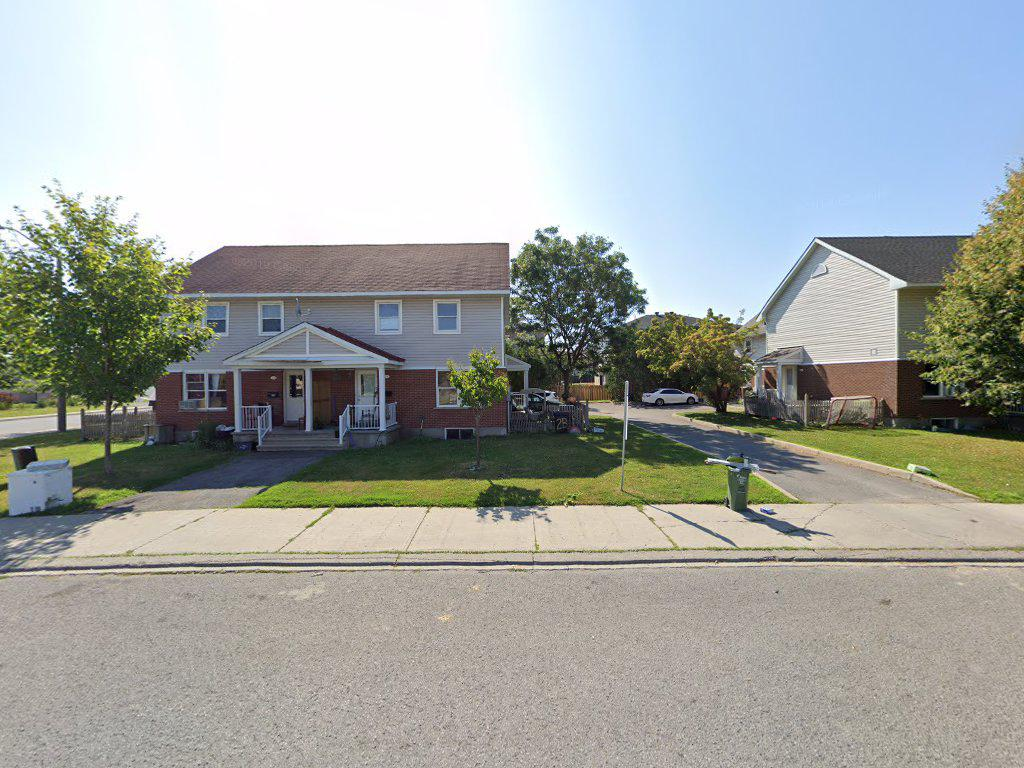trunk: (103, 401, 117, 463)
